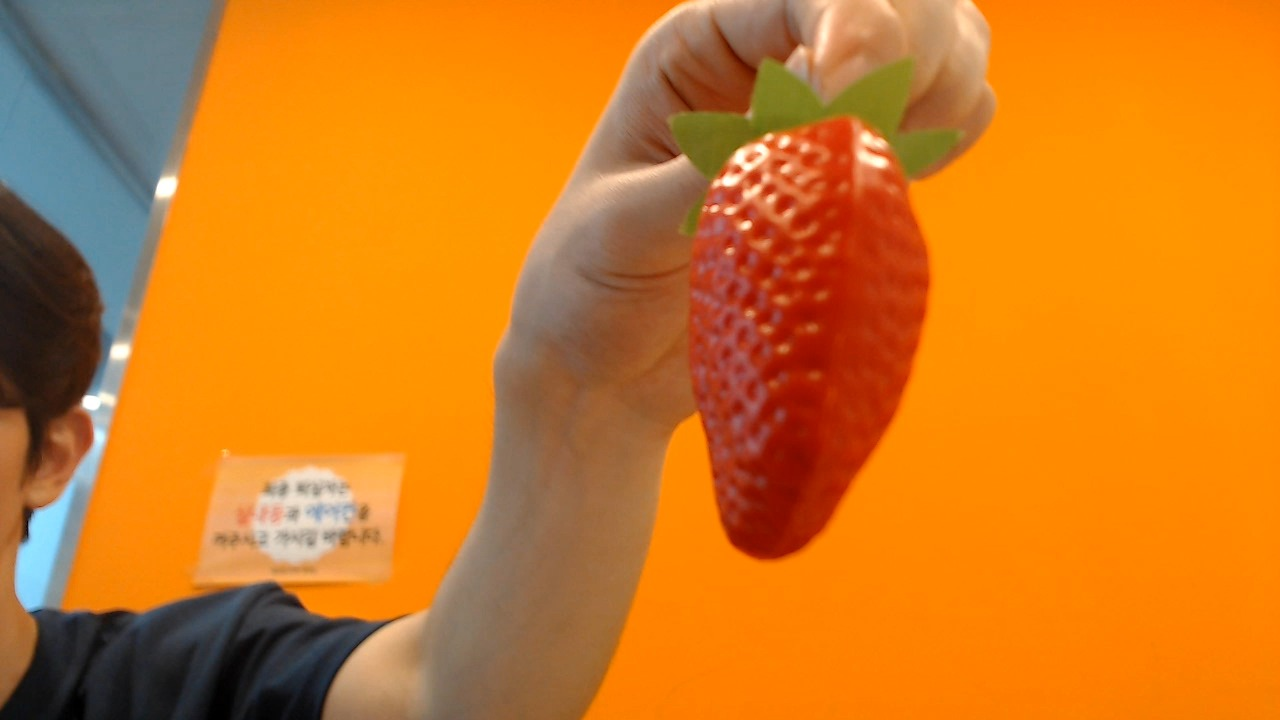strawberry: (686, 89, 930, 559)
